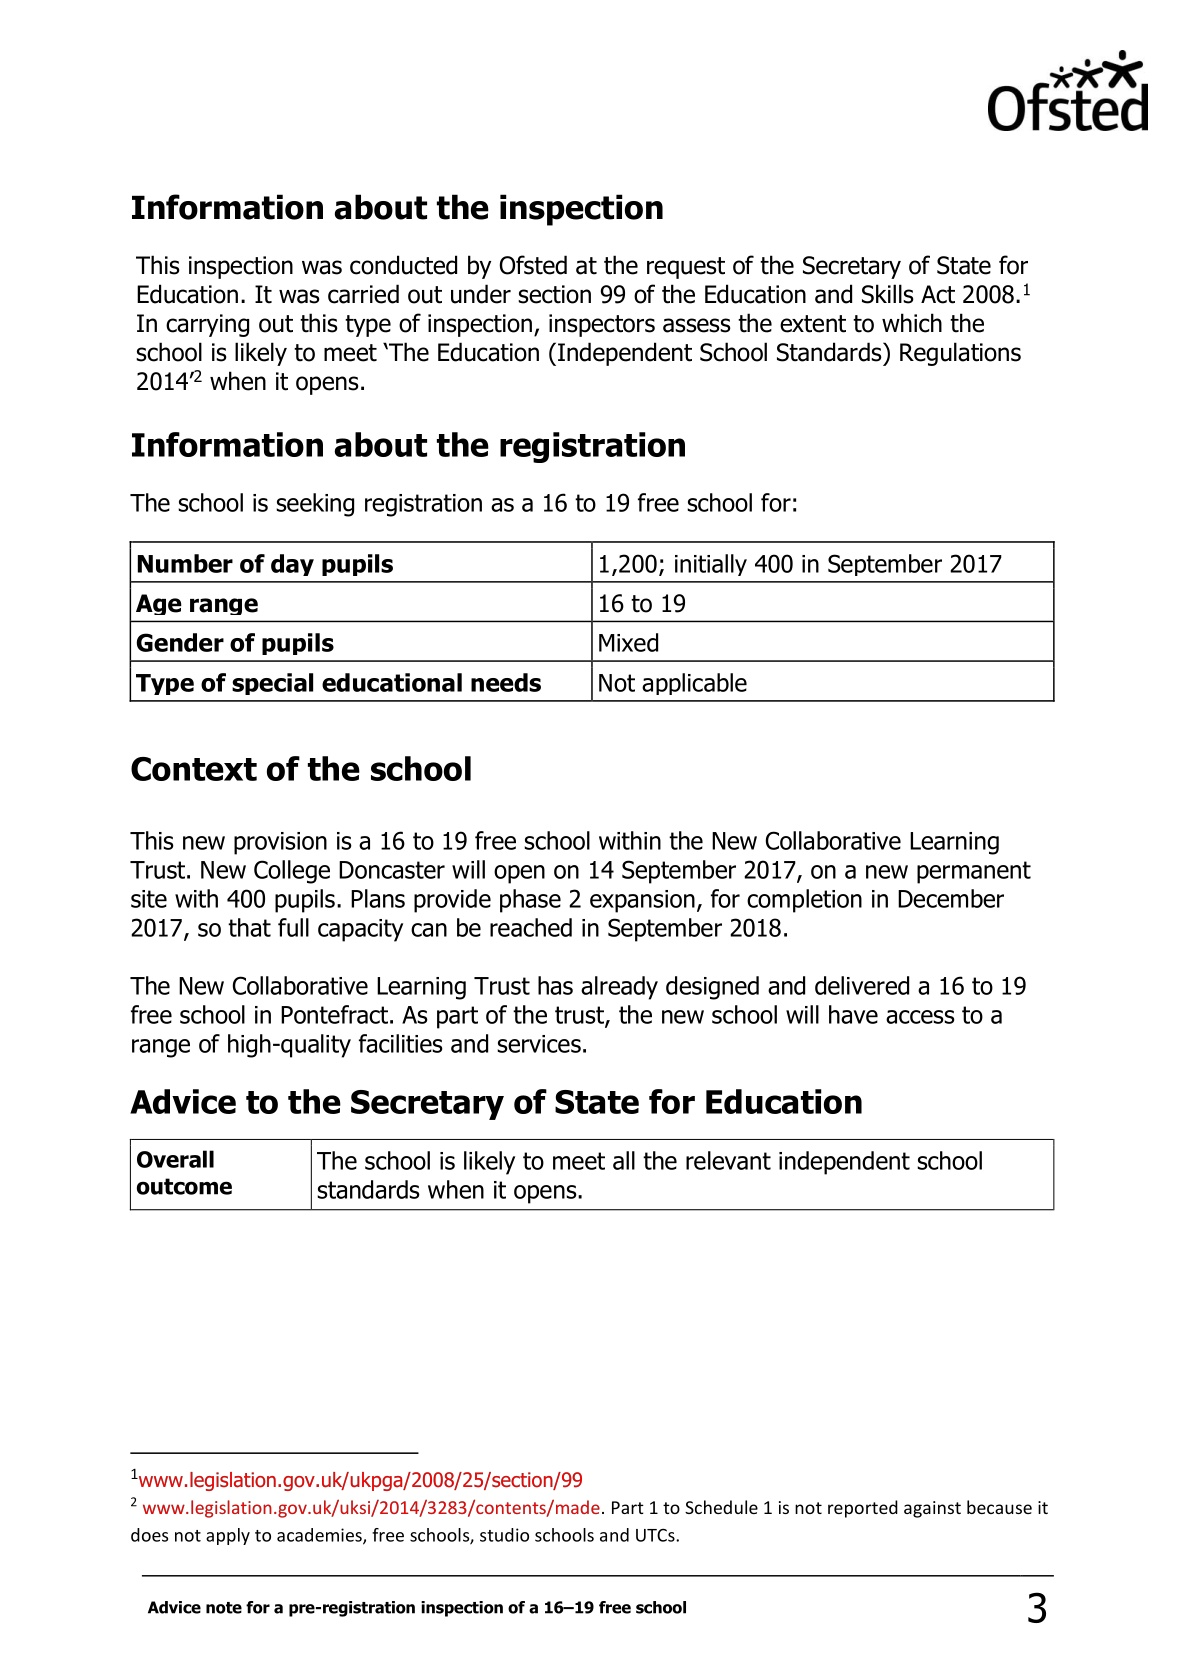full_lined: (127, 540, 1056, 703), (128, 1139, 1055, 1212)
